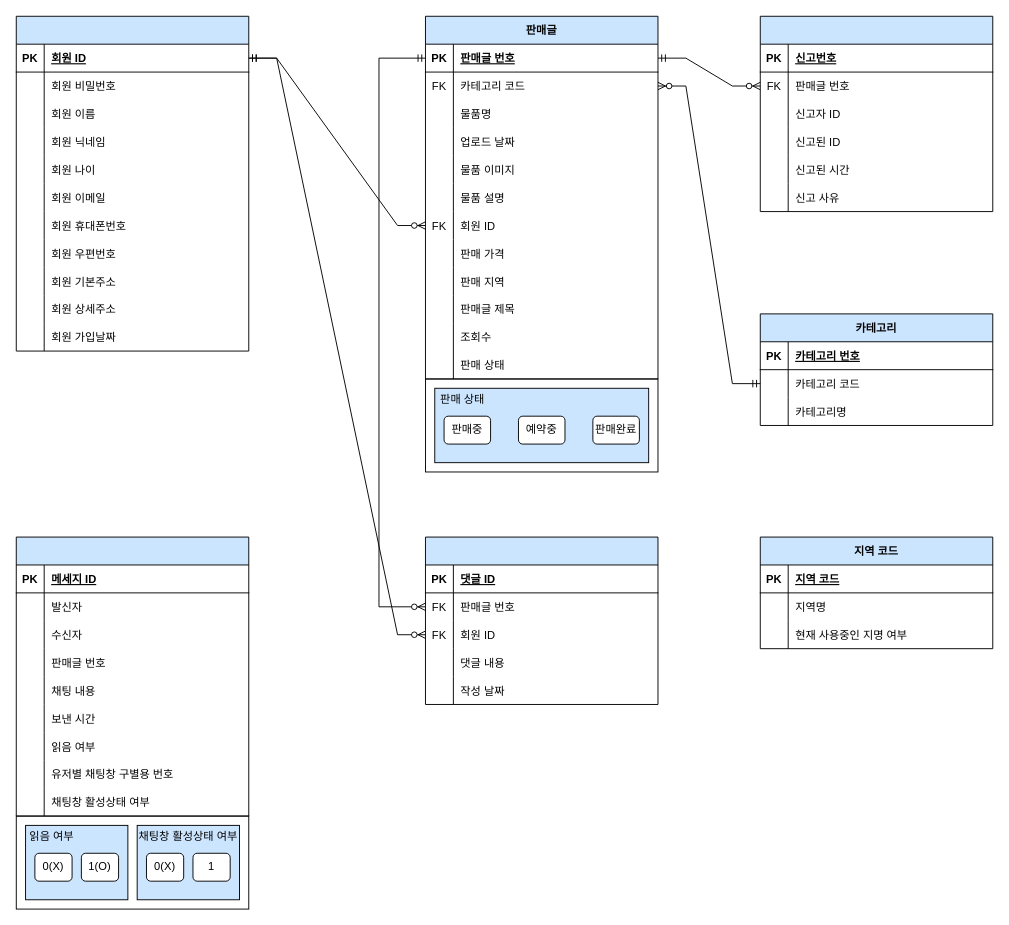
Some shapes in this 1009 by 925 pixel diagram are drawn without their labels. The shapes that lost their labels are listed below. From the top down, each one's box as (x1, y1, x2, y2) in pixels, then its label:
(759, 15, 993, 212): 신고
(15, 15, 249, 351): 회원
(425, 536, 658, 704): 댓글
(15, 536, 249, 816): 채팅
